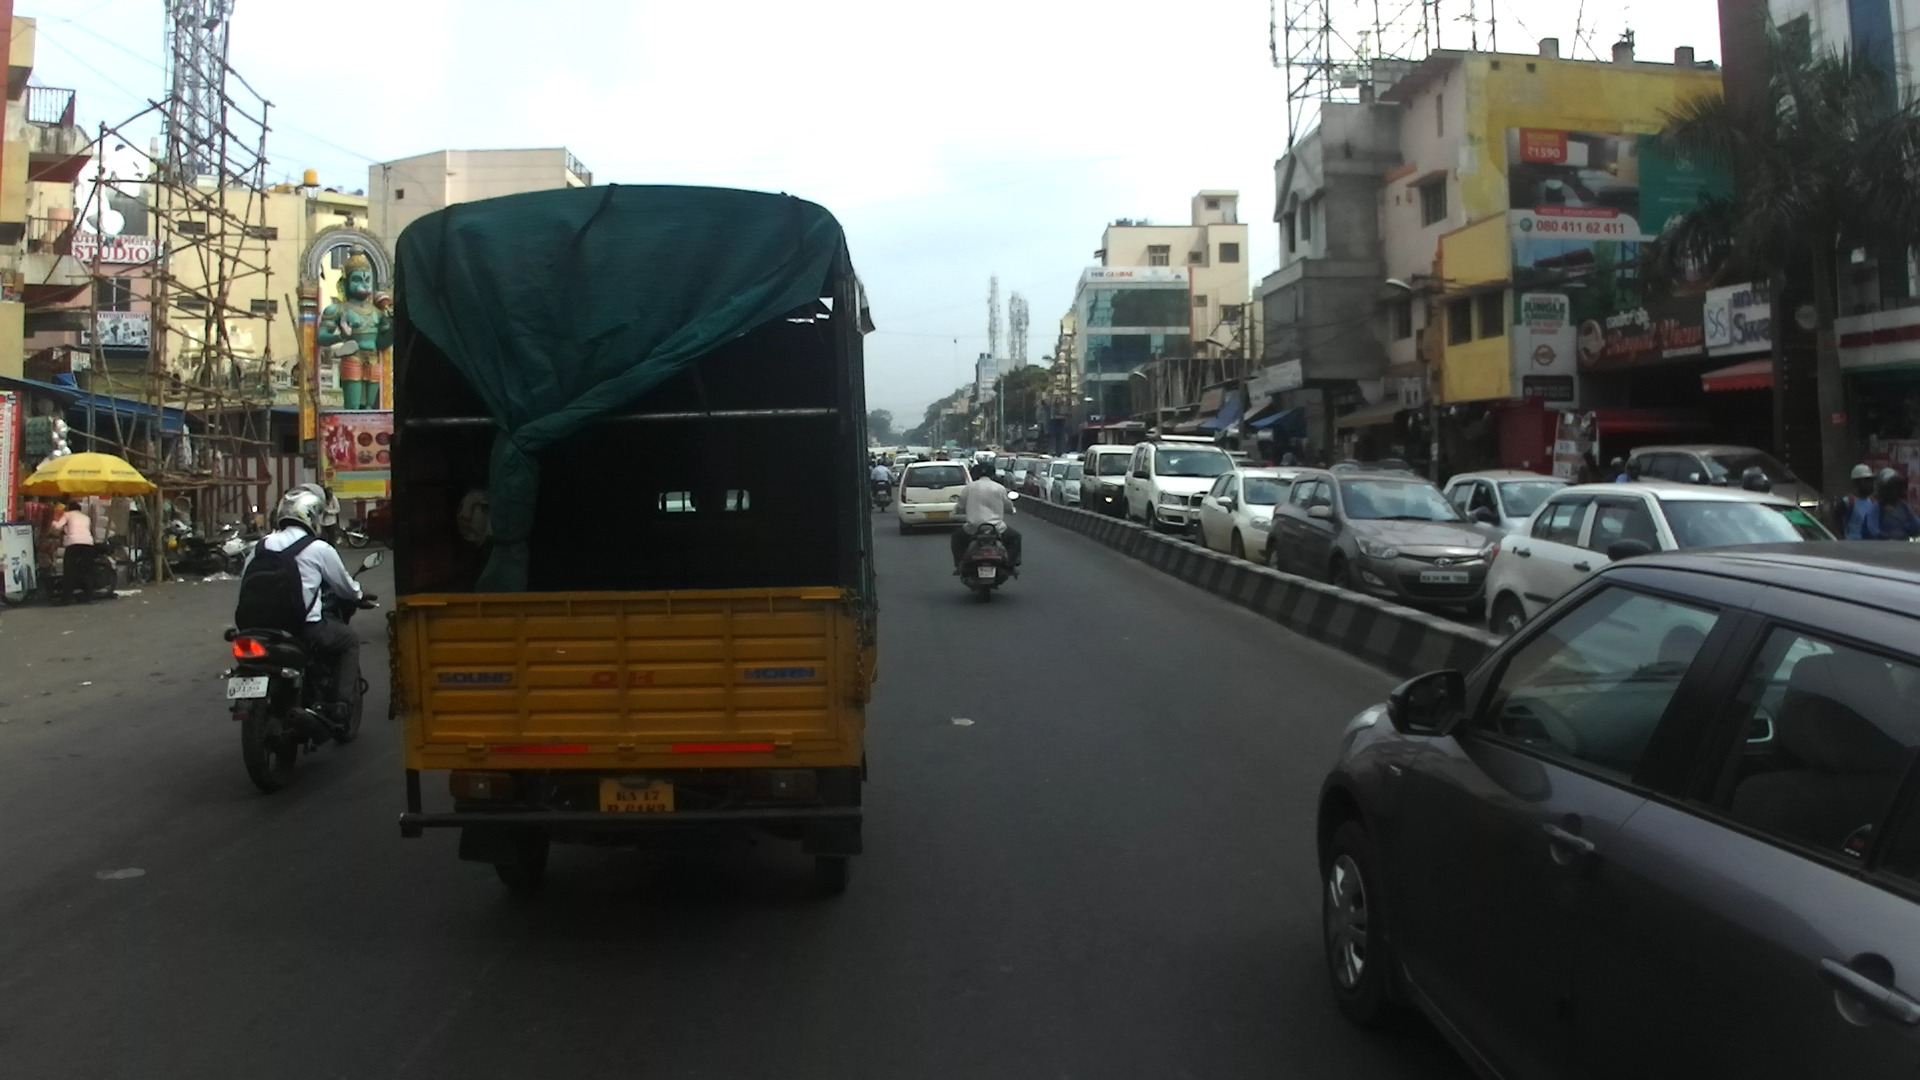autorickshaw: (386, 184, 882, 899), (887, 453, 896, 463)
car: (1316, 539, 1920, 1080), (1484, 482, 1827, 639), (1263, 458, 1507, 620), (1626, 443, 1829, 543), (1195, 466, 1339, 567), (1121, 434, 1238, 536), (1436, 470, 1580, 549), (896, 460, 975, 535), (1079, 444, 1137, 516), (1050, 460, 1088, 508), (1023, 455, 1056, 502), (368, 499, 396, 551), (1037, 459, 1068, 504), (1003, 452, 1037, 491), (890, 456, 921, 485), (1222, 451, 1257, 473), (991, 453, 1015, 485), (972, 450, 996, 472), (895, 447, 910, 460), (867, 459, 877, 476), (892, 453, 910, 463), (874, 453, 884, 463)
motorcycle: (215, 548, 384, 786), (948, 491, 1021, 602), (40, 529, 111, 597), (157, 521, 244, 576), (134, 535, 229, 580), (1838, 526, 1919, 547), (244, 503, 267, 562), (872, 472, 899, 512), (342, 512, 371, 548)
person: (51, 500, 95, 601), (314, 486, 340, 555), (1575, 450, 1606, 486), (1280, 445, 1293, 467), (1315, 450, 1329, 470), (1263, 451, 1274, 470)
rider: (229, 484, 364, 741), (951, 460, 1022, 579), (1861, 469, 1920, 546), (1835, 465, 1876, 543), (1738, 467, 1773, 501), (870, 459, 893, 499), (1600, 455, 1625, 488), (1616, 457, 1641, 487), (969, 464, 984, 485), (1711, 476, 1728, 490), (959, 454, 972, 471), (879, 452, 889, 469), (940, 450, 953, 460), (918, 454, 929, 461), (869, 452, 876, 460), (937, 451, 942, 461)
vehicle fallback: (951, 457, 976, 473), (1060, 452, 1085, 463), (949, 448, 968, 457)
